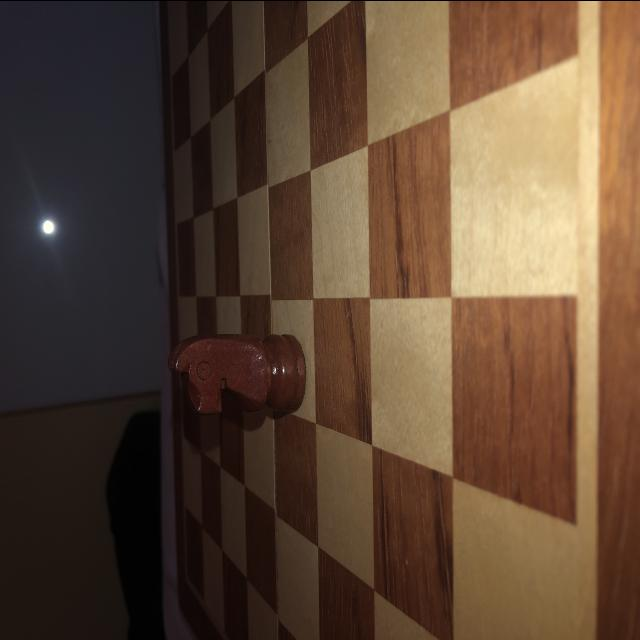black_knight: (165, 327, 310, 417)
